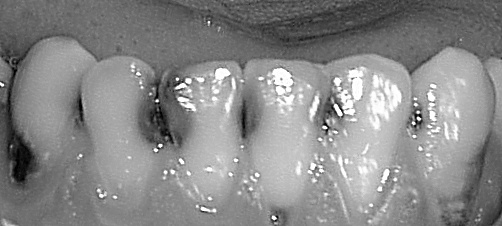karies: (137, 81, 188, 147), (314, 91, 355, 141), (3, 137, 39, 184), (229, 95, 262, 144), (404, 101, 431, 138), (69, 91, 91, 129), (264, 207, 288, 226)
